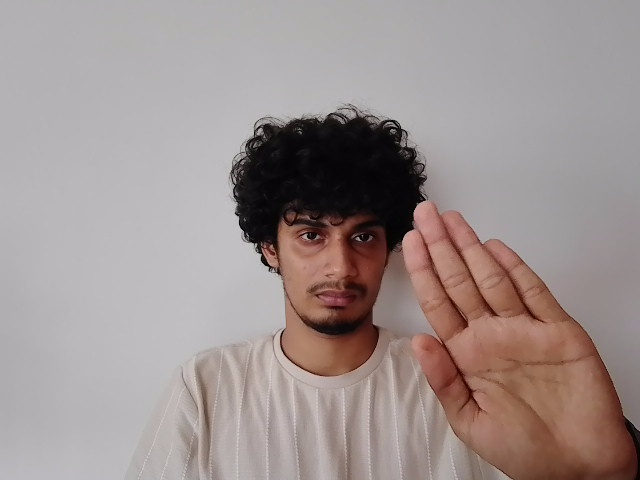hello: (398, 200, 640, 467)
